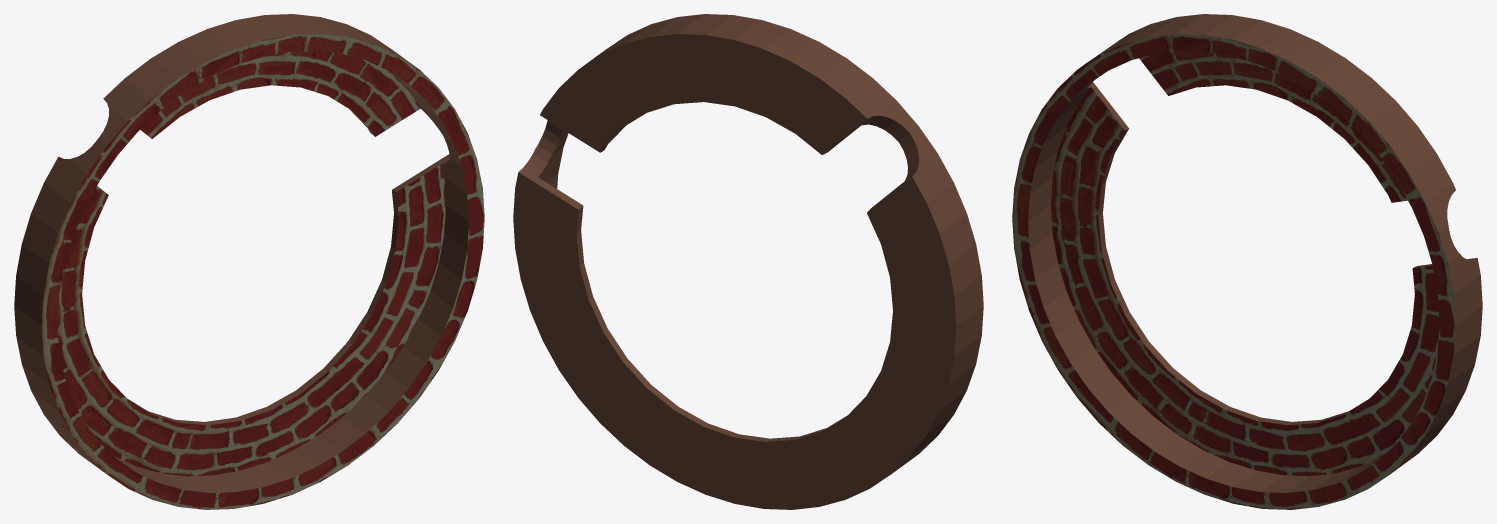
Rendered from pool_001.obj.
The picture shows the model from 3 angles, left to right: view 1: azimuth 30°, elevation 25°; view 2: azimuth 150°, elevation 25°; view 3: azimuth 330°, elevation 25°; orthographic projection.
Bounding box in the file's own units: 28 × 28 × 3.
Materials: 1 (1 with a texture image).
